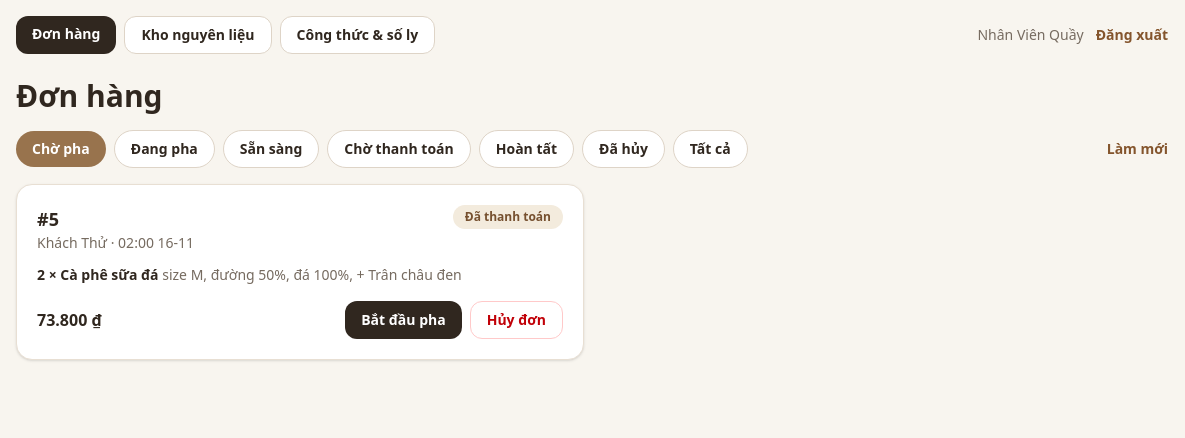
Test case: Trang nhân viên /staff (FR-15) › chuyển trạng thái bị API từ chối thì hiện thông báo lỗi
The image size is (1185, 438).
Step 1. Click the button "Bắt đầu pha" → (403, 320), box top-left (345, 301), bottom-right (462, 339)
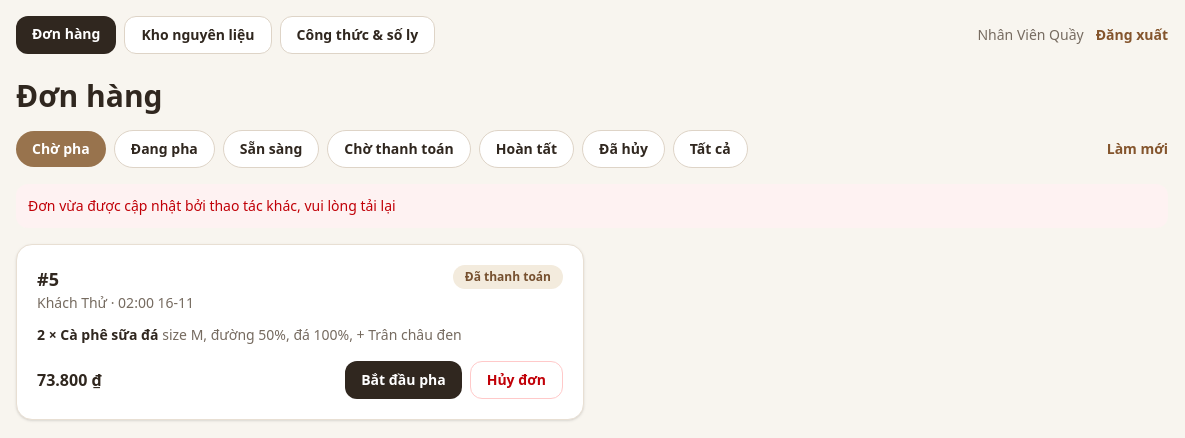
Expected: the message shows "Đơn vừa được cập nhật bởi thao tác khác", top-left (28, 196), bottom-right (396, 215)
